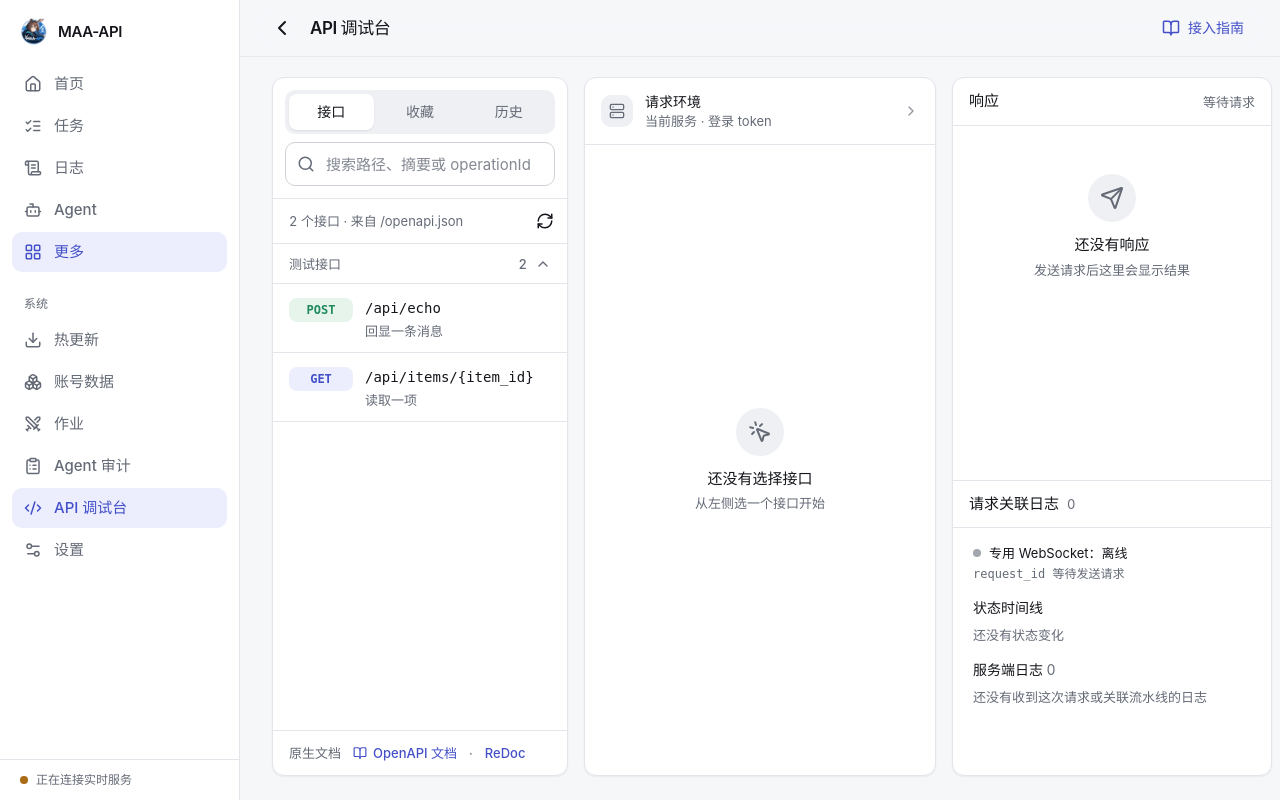
Test: API console › K9 keeps network failures in local history without the active token
Click the button "POST /api/echo 回显一条消息": (420, 318) [273,284,567,352]
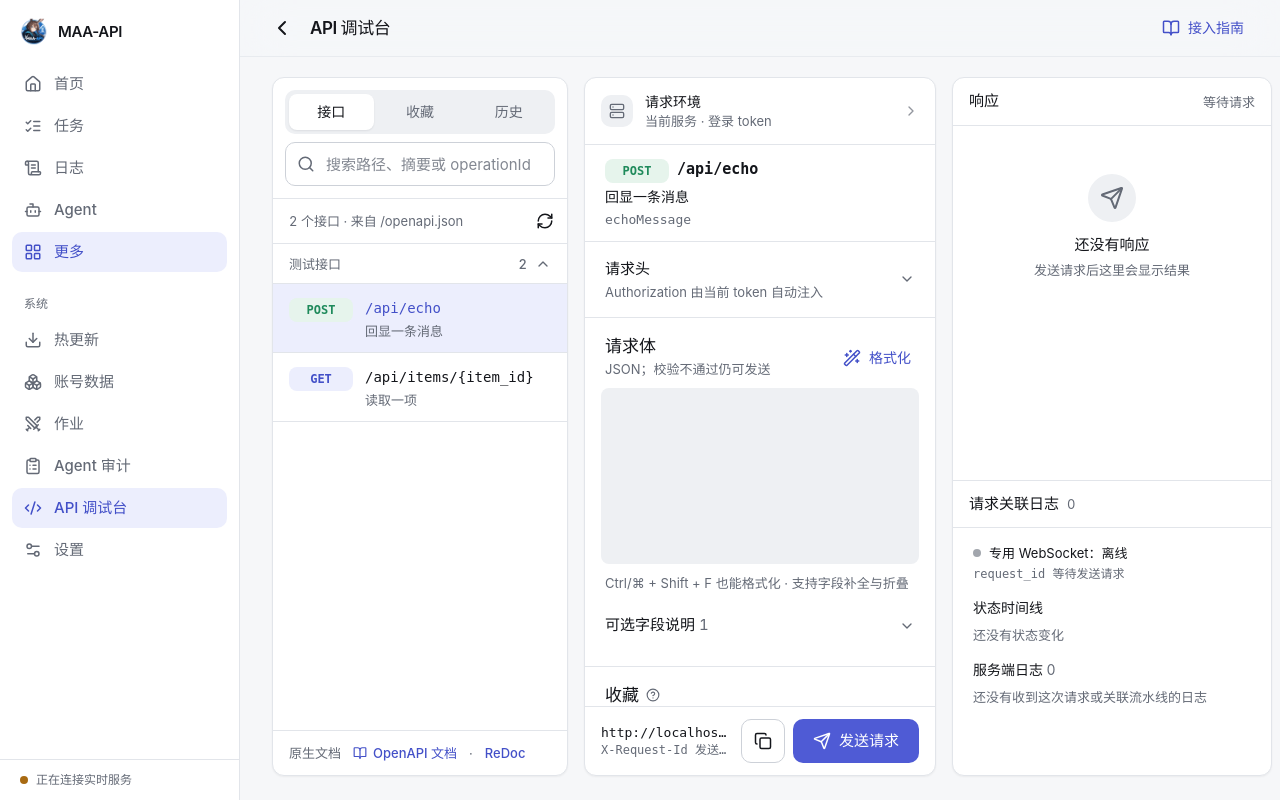
Click the button "发送请求": (856, 741) [793,719,919,763]
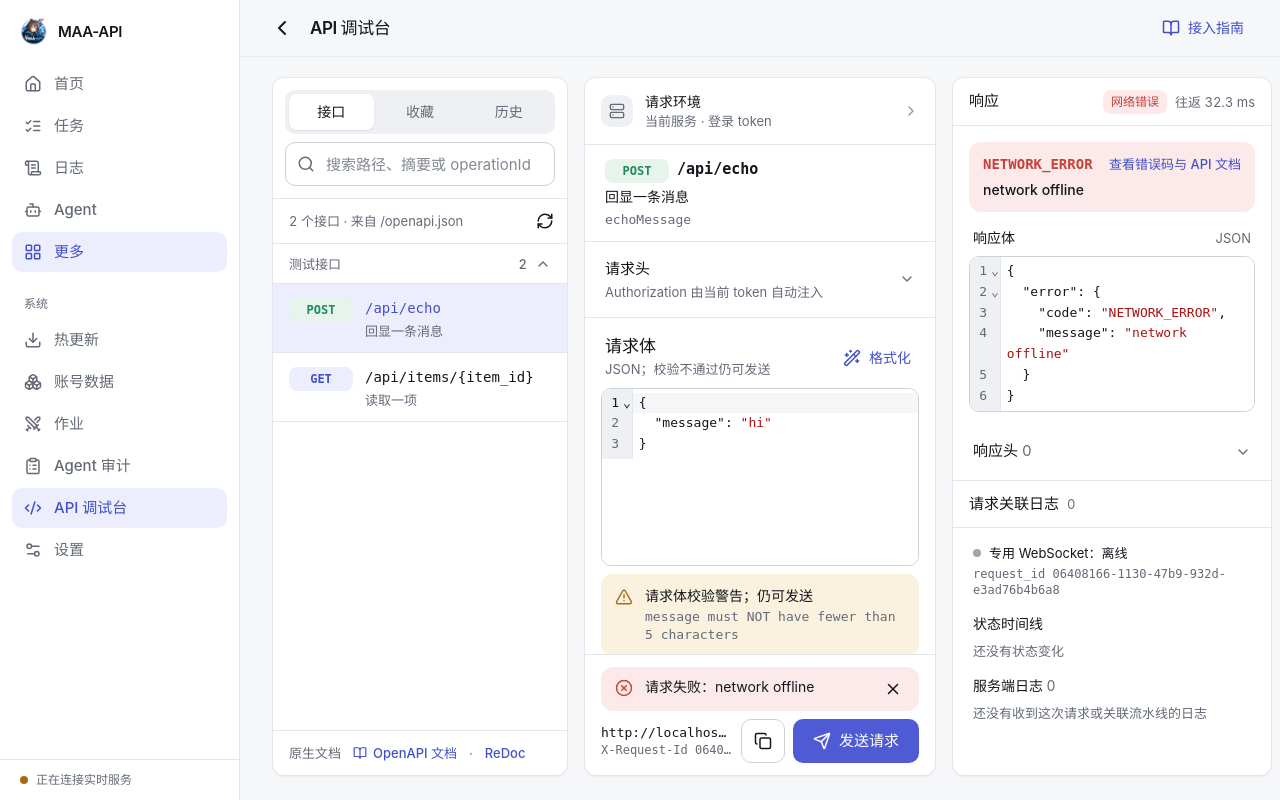
Expected: the text "请求失败：network offline" is shown, [645,678,814,695]
Expected: the text "NETWORK_ERROR" is shown, [983,154,1093,174]
Click the radio button labelled "历史": (509, 112) [466,94,551,130]
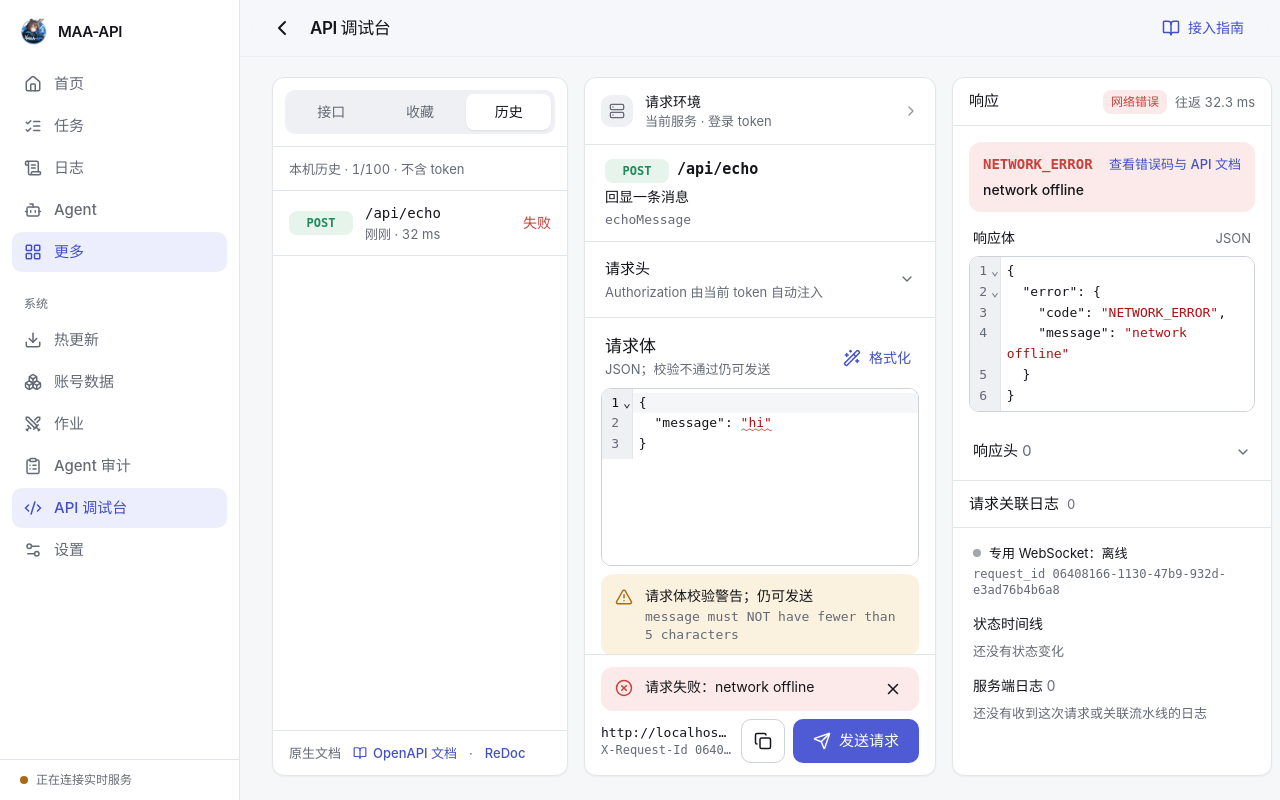
Expected: the button "POST /api/echo 刚刚 · 32 ms 失败" is shown, [273,191,567,255]
